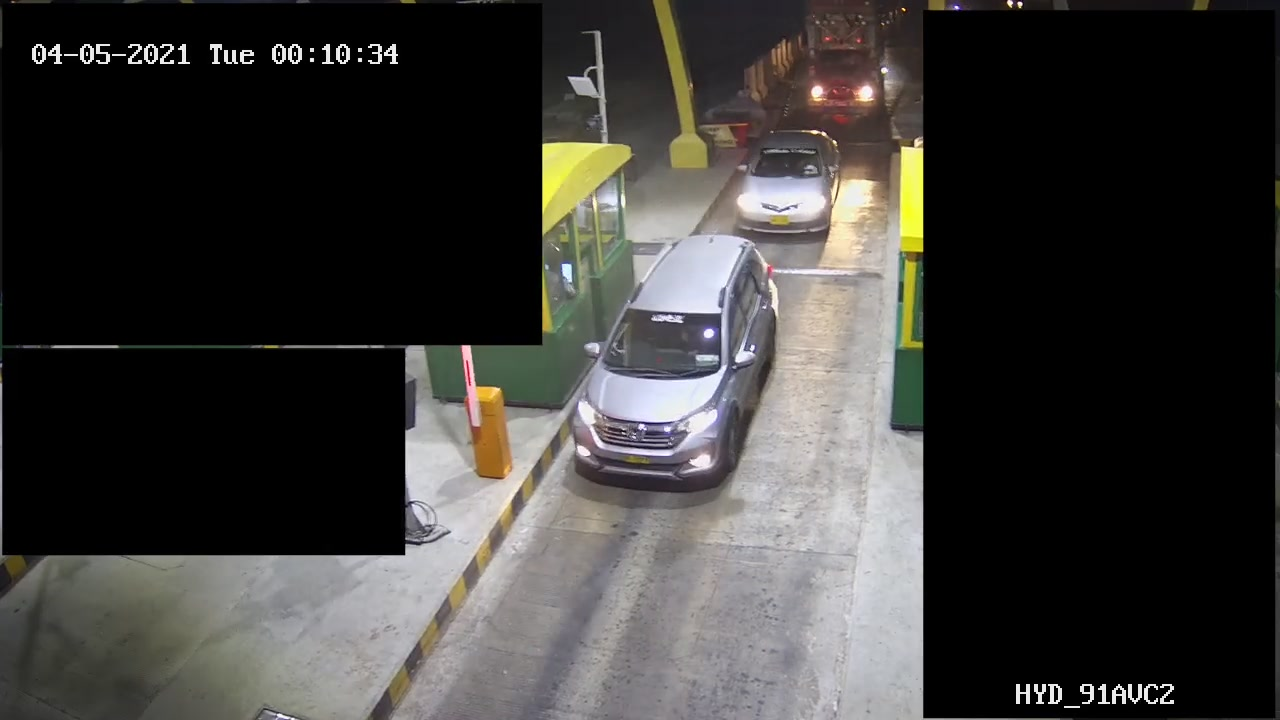F1: (560, 232, 792, 493)
